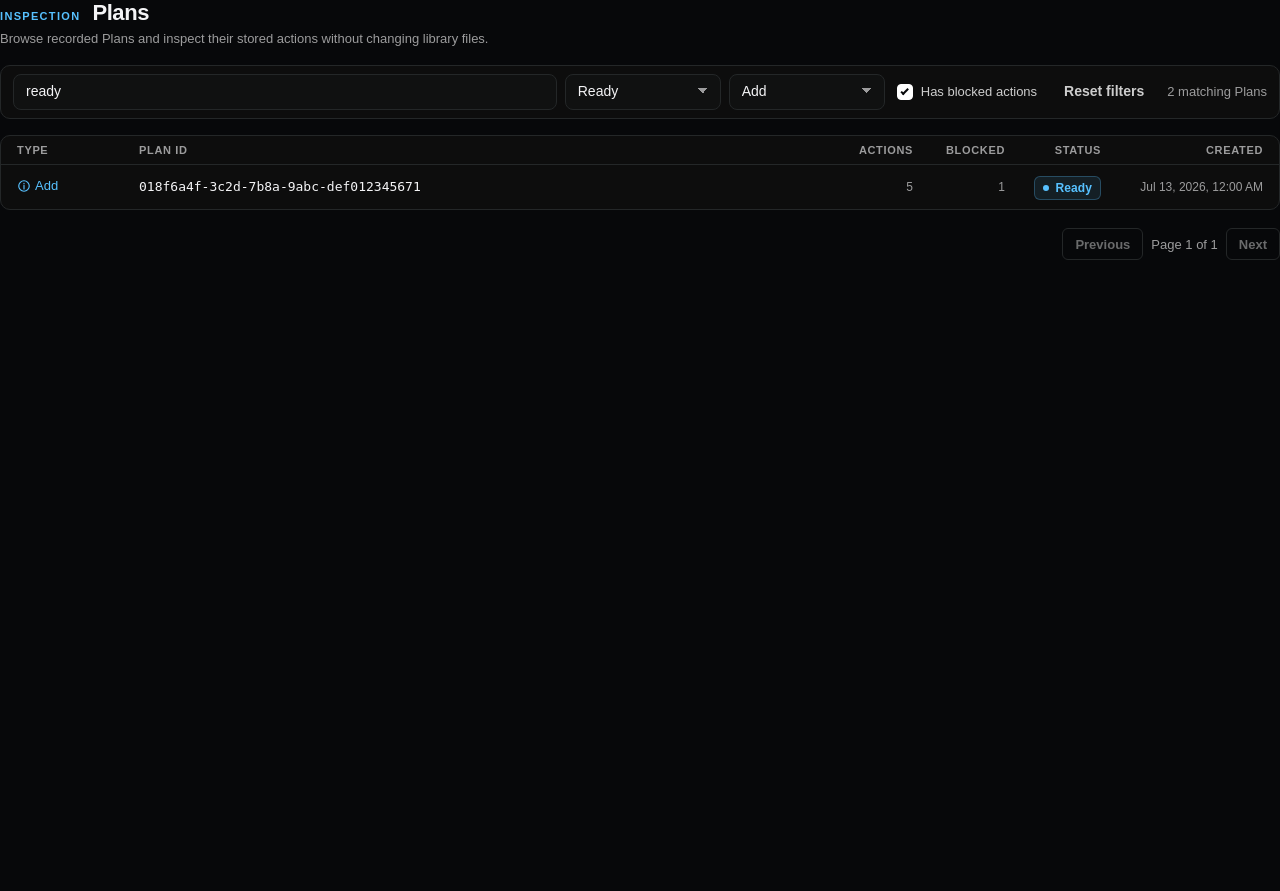
Test: Plan inspection › round-trips Plan list URL state through detail and Back
Click the link "018f6a4f-3c2d-7b8a-9abc-def012345671".
click(280, 187)  # box [17,176,1263,200]
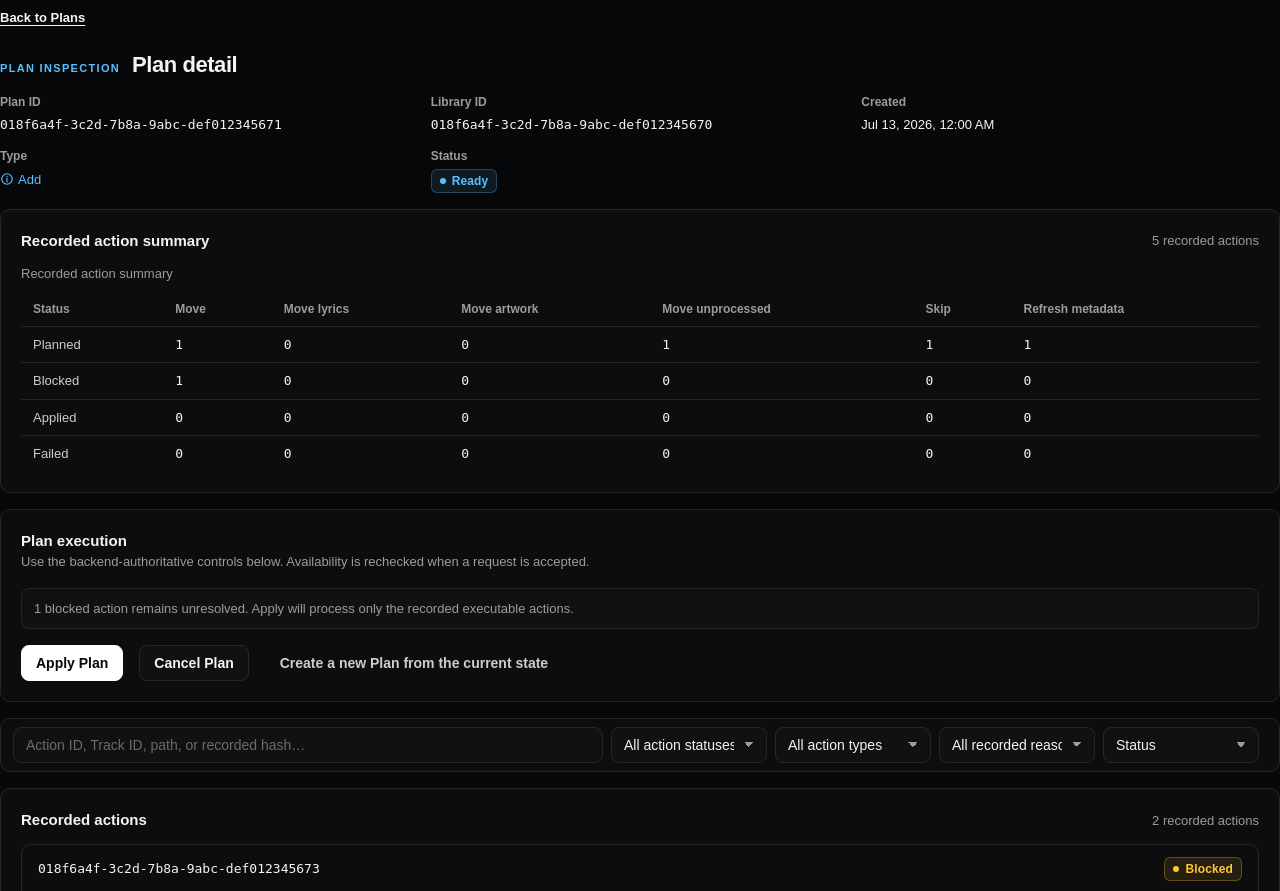
Click the link "Back to Plans".
click(43, 18)  # box [0,10,85,25]
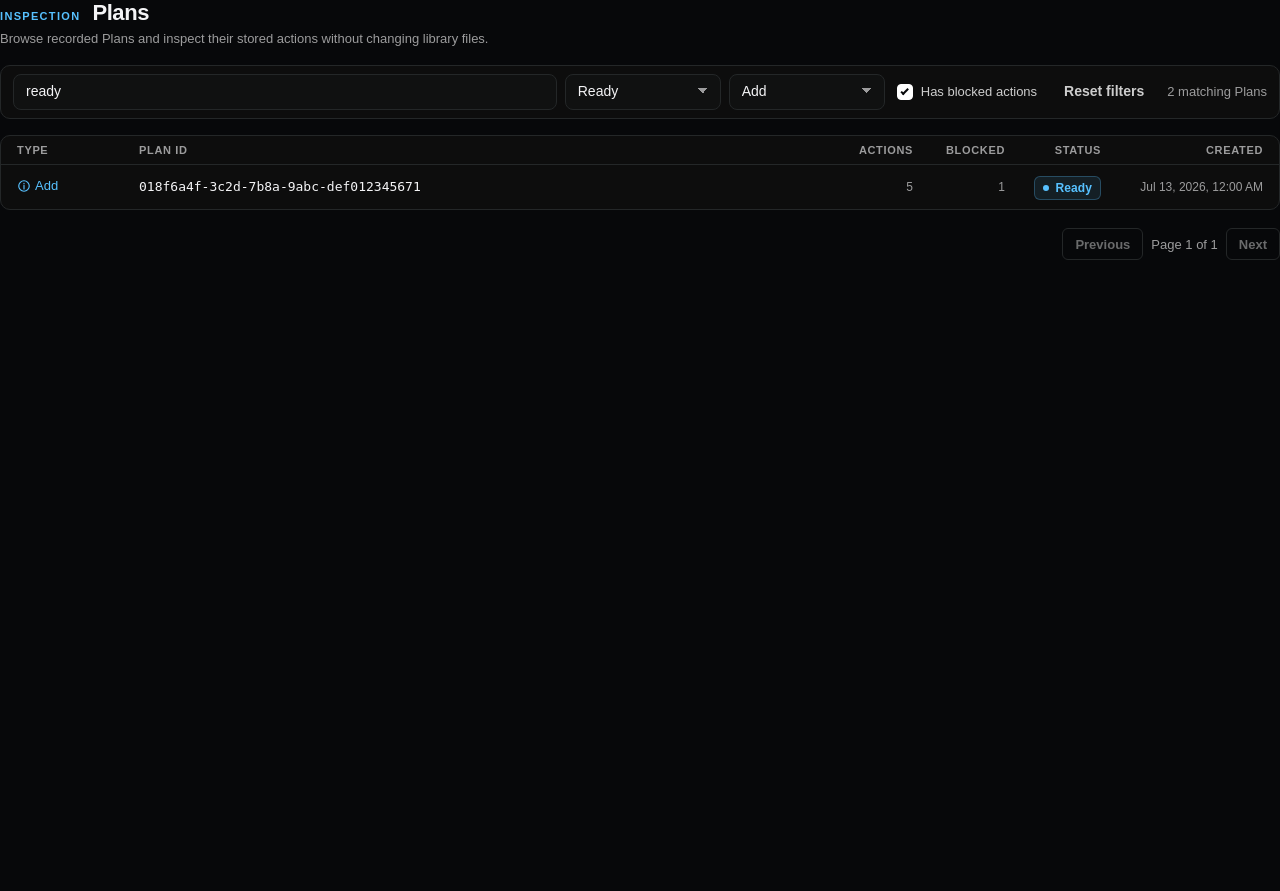
Check: the heading "Plans" is shown, box [92,0,149,25]
Check: the search field named "Search Plans" holds "ready", box [13,74,557,110]
Check: the 1st dropdown named "Plan status" shows "Ready", box [565,74,721,110]
